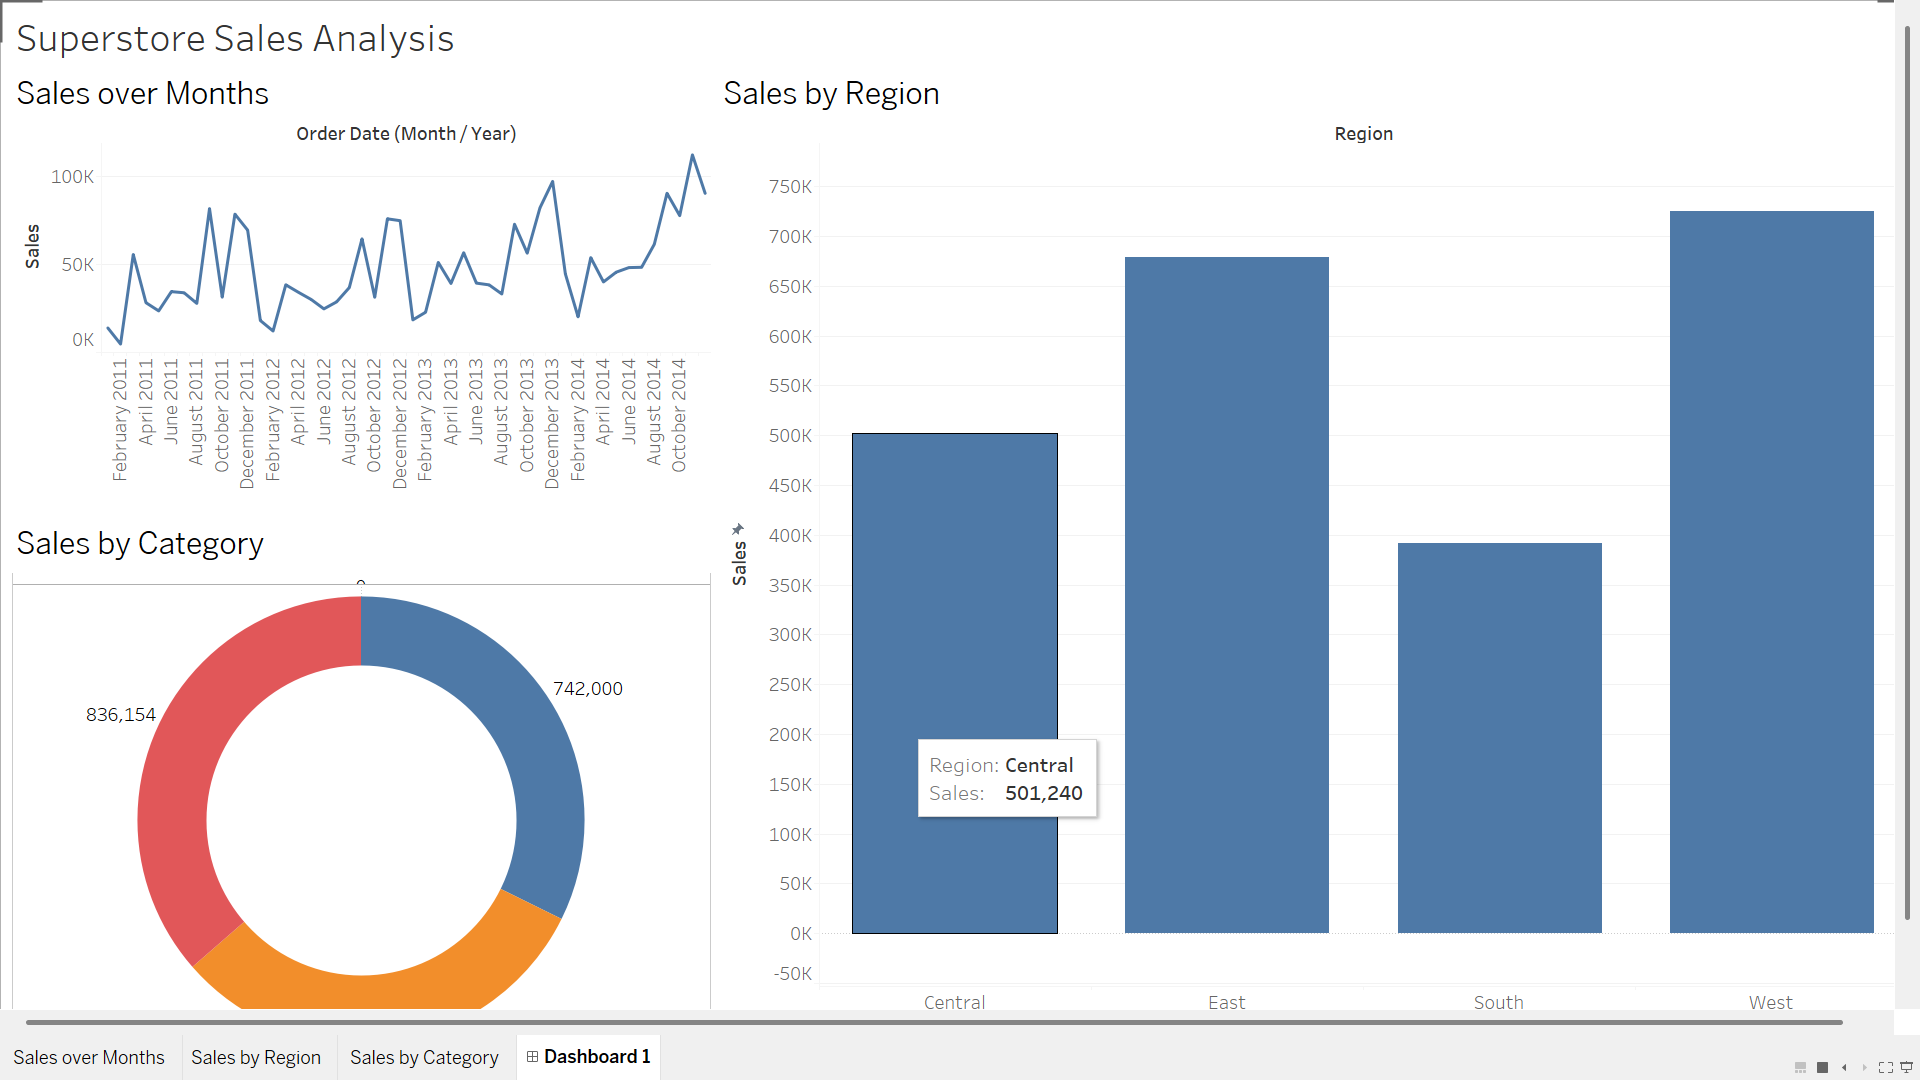

What the dashboard file says about the page in this screenshot:
{"tool":"tableau","page":{"name":"Dashboard 1","canvas":[1000,800],"ordinal":0},"visuals":[{"type":"title","box":[8,8,984,49]},{"type":"worksheet","title":" Sales over Months","mark":"Automatic","rows":["Sales"],"cols":["Order Date (Month / Year)"],"box":[8,57,523,329.1]},{"type":"worksheet","title":"Sales by Region","mark":"Automatic","rows":["Sales"],"cols":["Region"],"box":[531,57,461,735]},{"type":"worksheet","title":" Sales by Category","mark":"Pie","cols":["Calculation_1274518700160221184","Calculation_1274518700160458753"],"box":[8,386.1,523,405.9]}]}

Visuals, with their boxes on the page's 1000x800 design canvas (x1, y1, x2, y2). These are canvas units, not pixel positions in the 1920x1080 screenshot, which may show the page scaled, cropped or inside an application window:
title: box=[8, 8, 992, 57]
" Sales over Months" worksheet: box=[8, 57, 531, 386]
"Sales by Region" worksheet: box=[531, 57, 992, 792]
" Sales by Category" worksheet (Pie marks): box=[8, 386, 531, 792]
